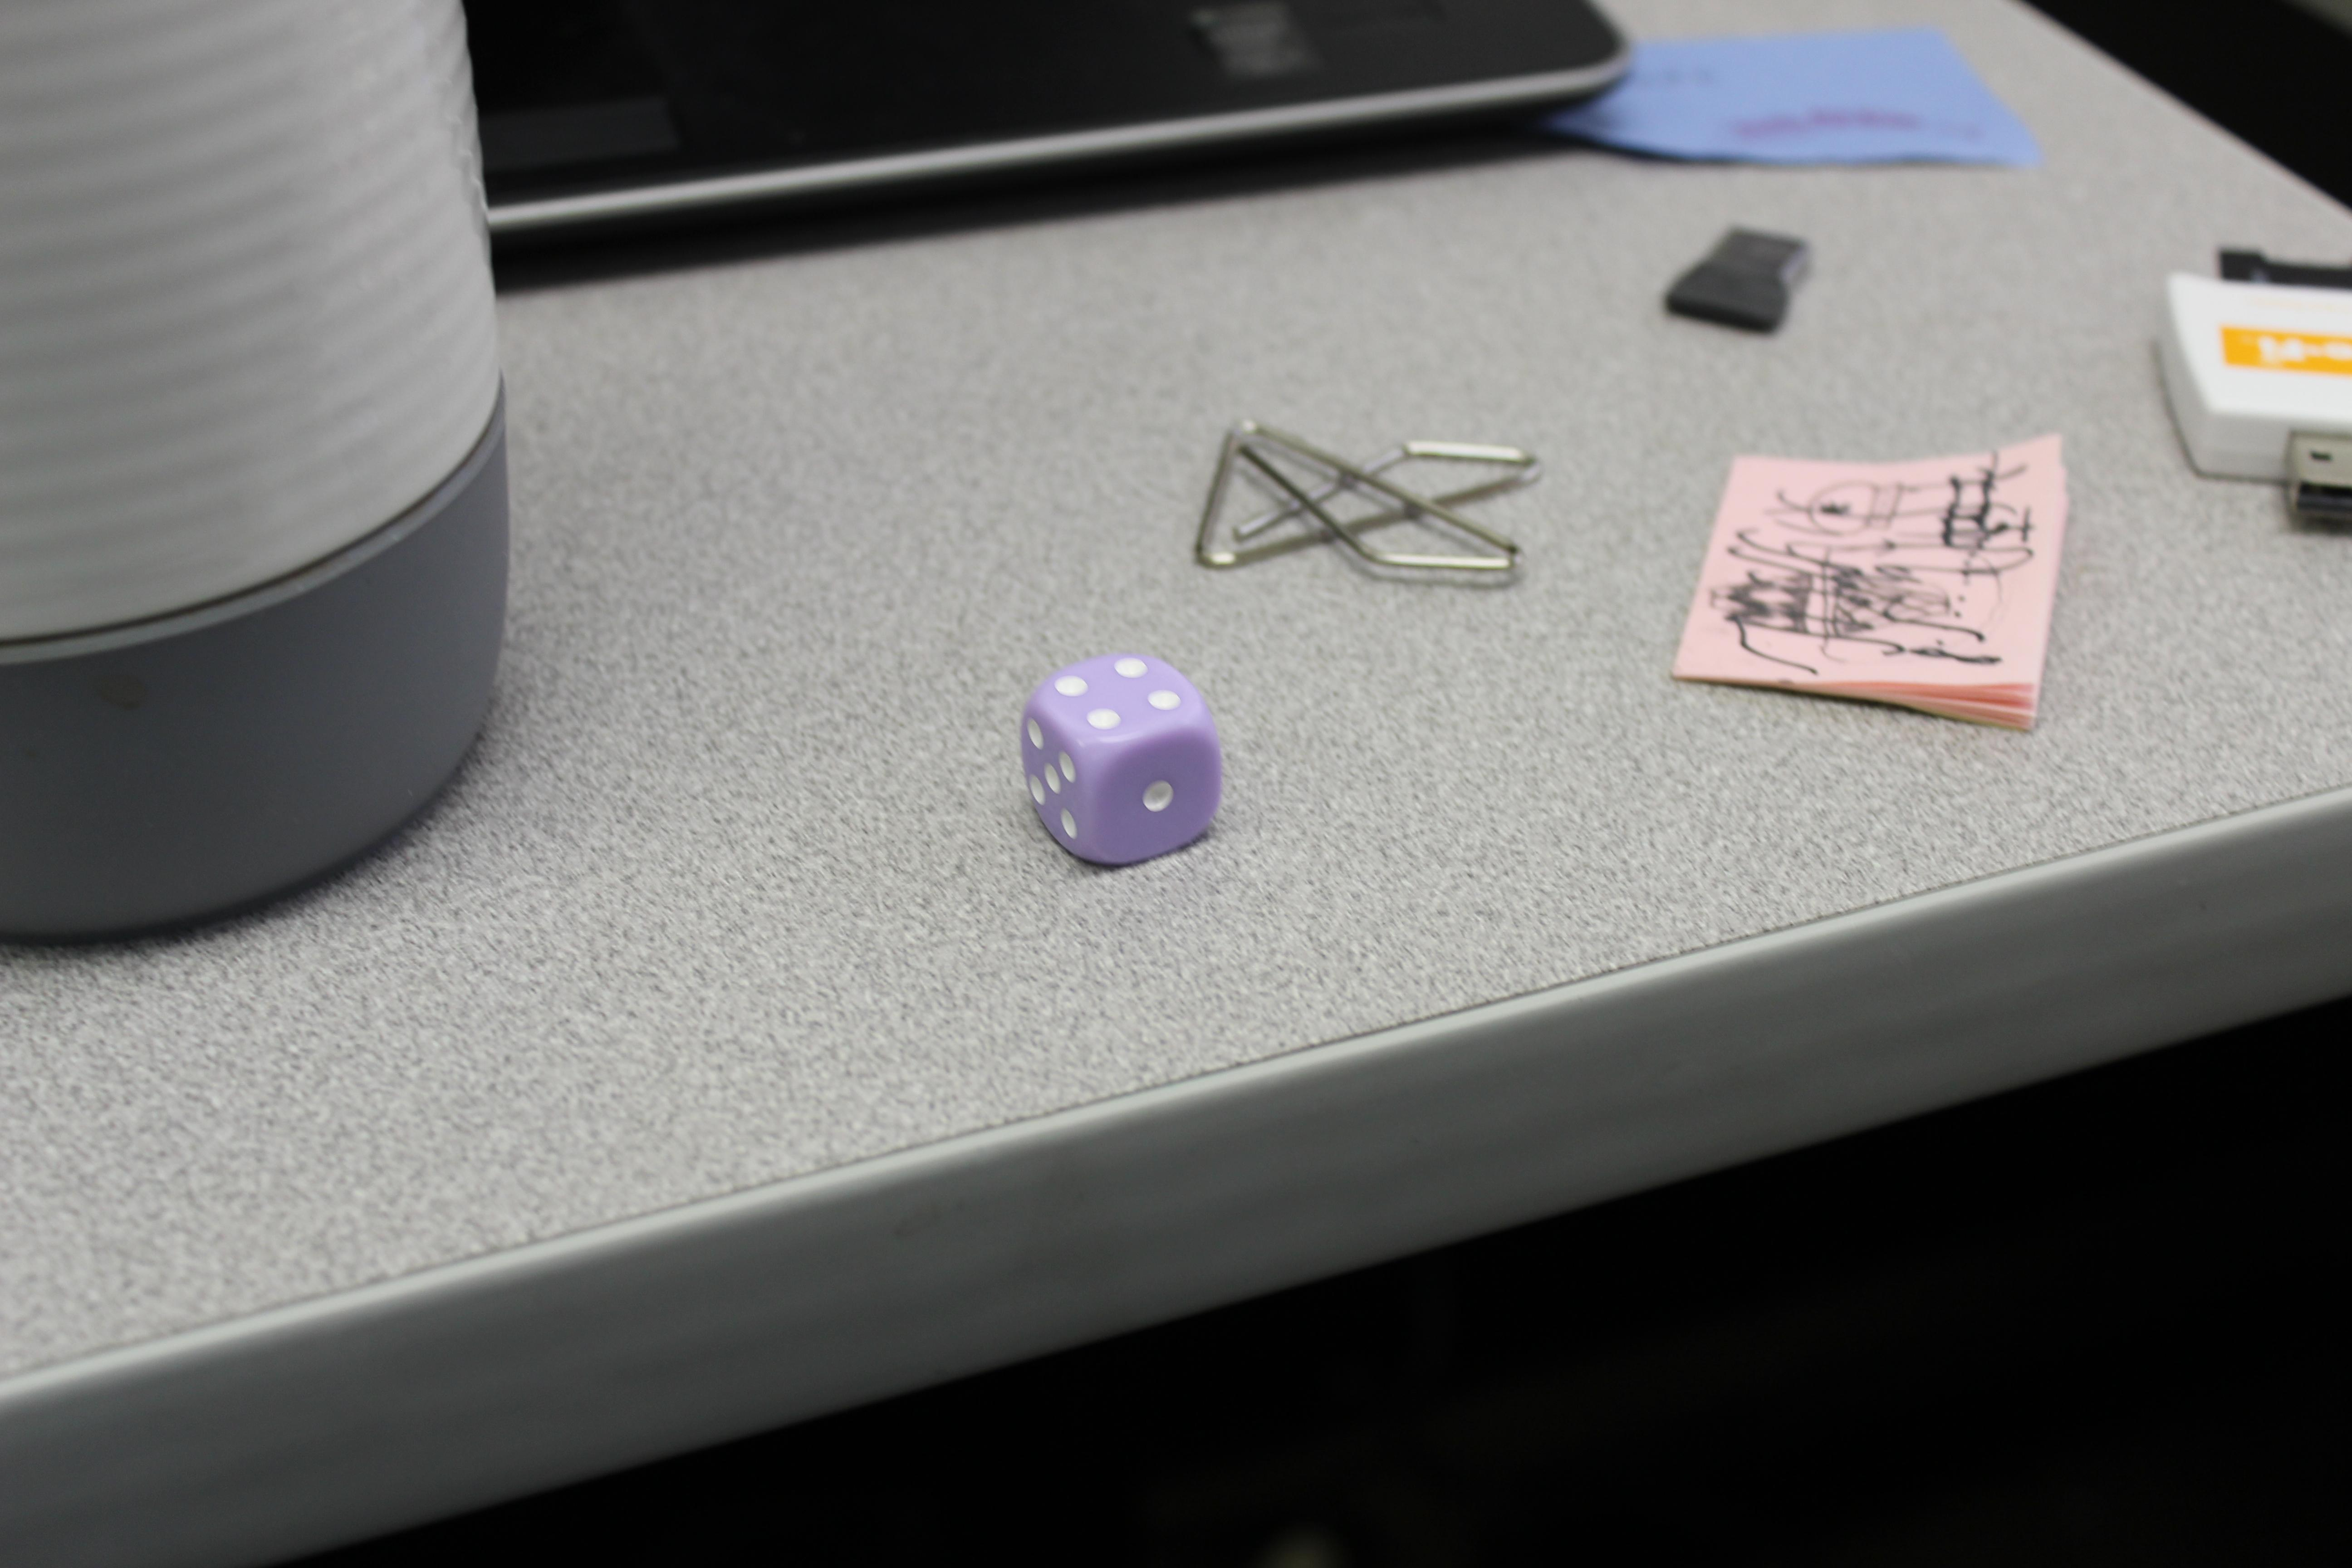lavenderDie: (987, 628, 1262, 892)
